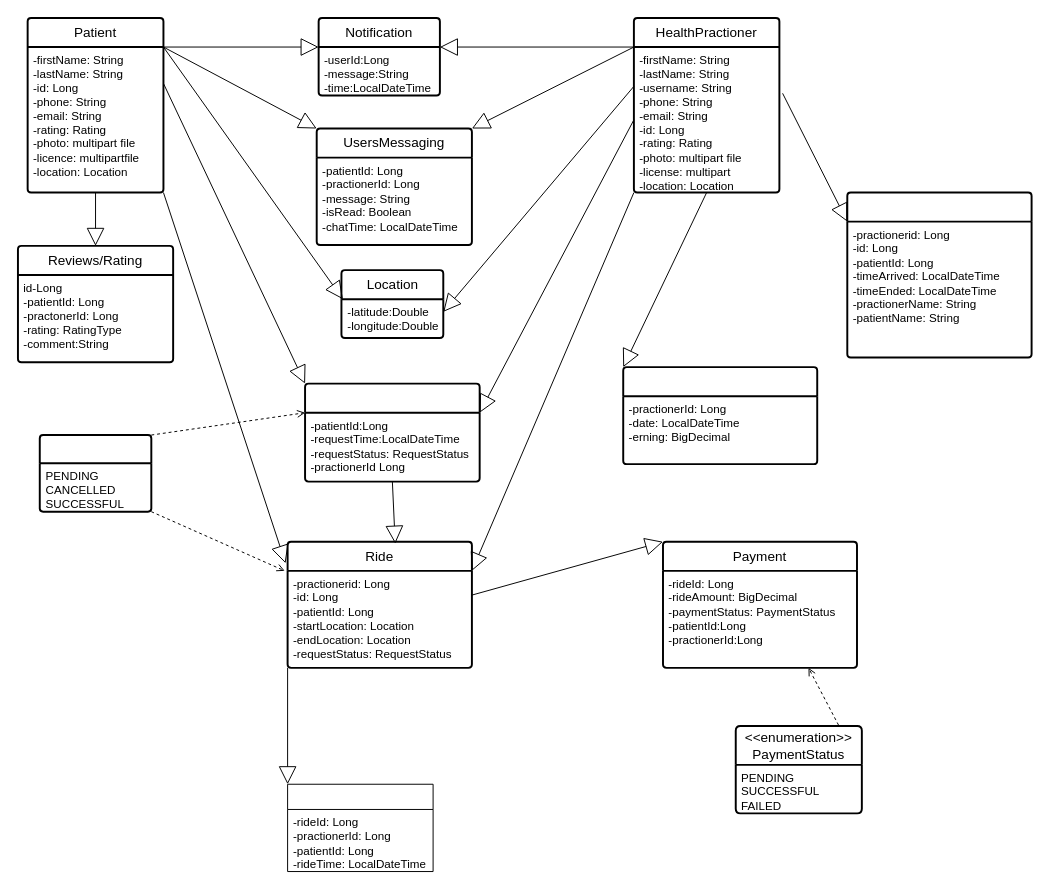
Some shapes in this 1049 by 890 pixel diagram are drawn without their labels. The box of each missing label's shape, as (x1, y1, x2, y2) in pixels:
<<enumeration>> RequestStatus: (38, 434, 152, 512)
EmergencyRequest: (304, 382, 480, 482)
History: (287, 783, 433, 872)
PractionerEarning: (622, 366, 818, 465)
Report: (846, 191, 1032, 358)
